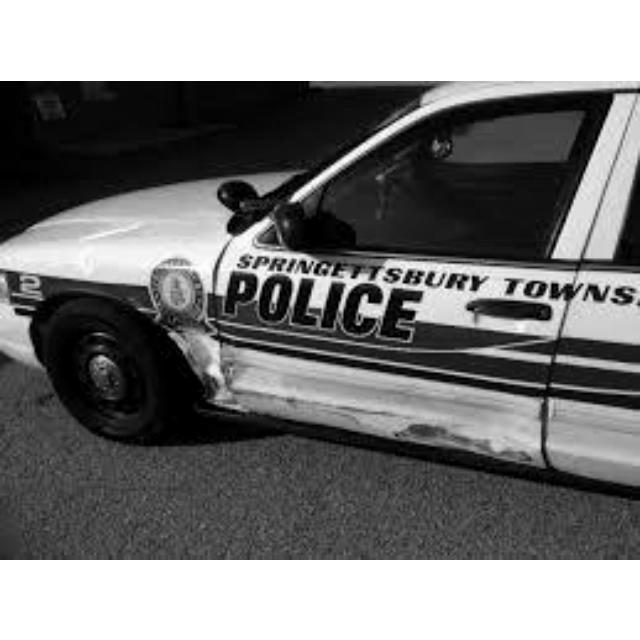Runningboard-Damage: (223, 397, 539, 468)
fender-dent: (116, 268, 222, 408)
